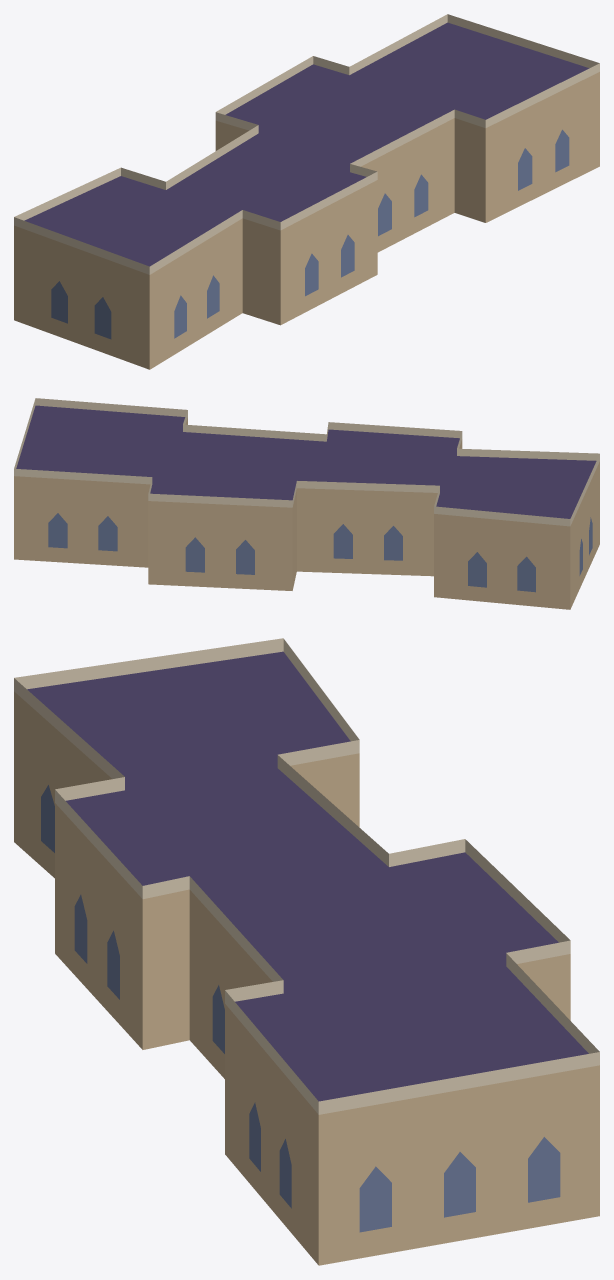
The model's file is b-043-day.glb.
3 renders of one model, top to bottom at view 1: azimuth 30°, elevation 25°; view 2: azimuth 150°, elevation 25°; view 3: azimuth 270°, elevation 25°, orthographic. The views are drawn at different scales.
Parts seen in each view (by area): view 1: campus/b-043-day-0; view 2: campus/b-043-day-0; view 3: campus/b-043-day-0.
Part boxes in pixels (x1,y1,x2,y2): campus/b-043-day-0: [14, 14, 599, 369]; campus/b-043-day-0: [14, 398, 599, 609]; campus/b-043-day-0: [14, 638, 599, 1265].
Bounding box in the file's own units: 40.84 × 6.75 × 21.83.
